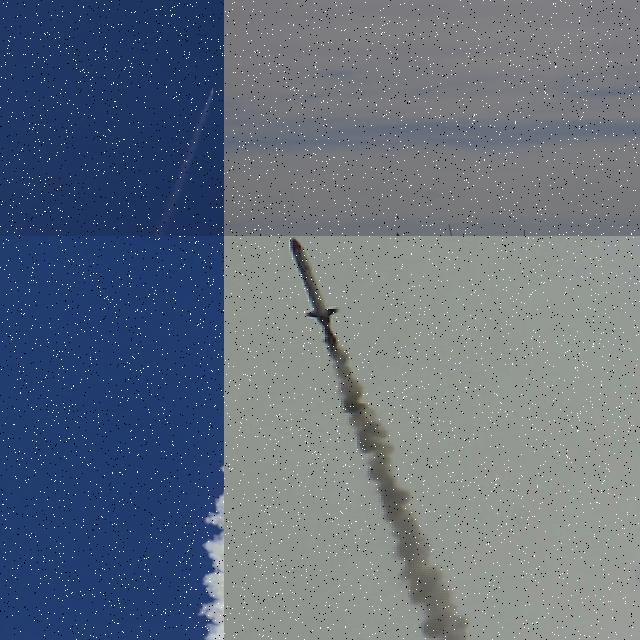Rocket: (287, 236, 341, 322), (210, 88, 215, 93)
